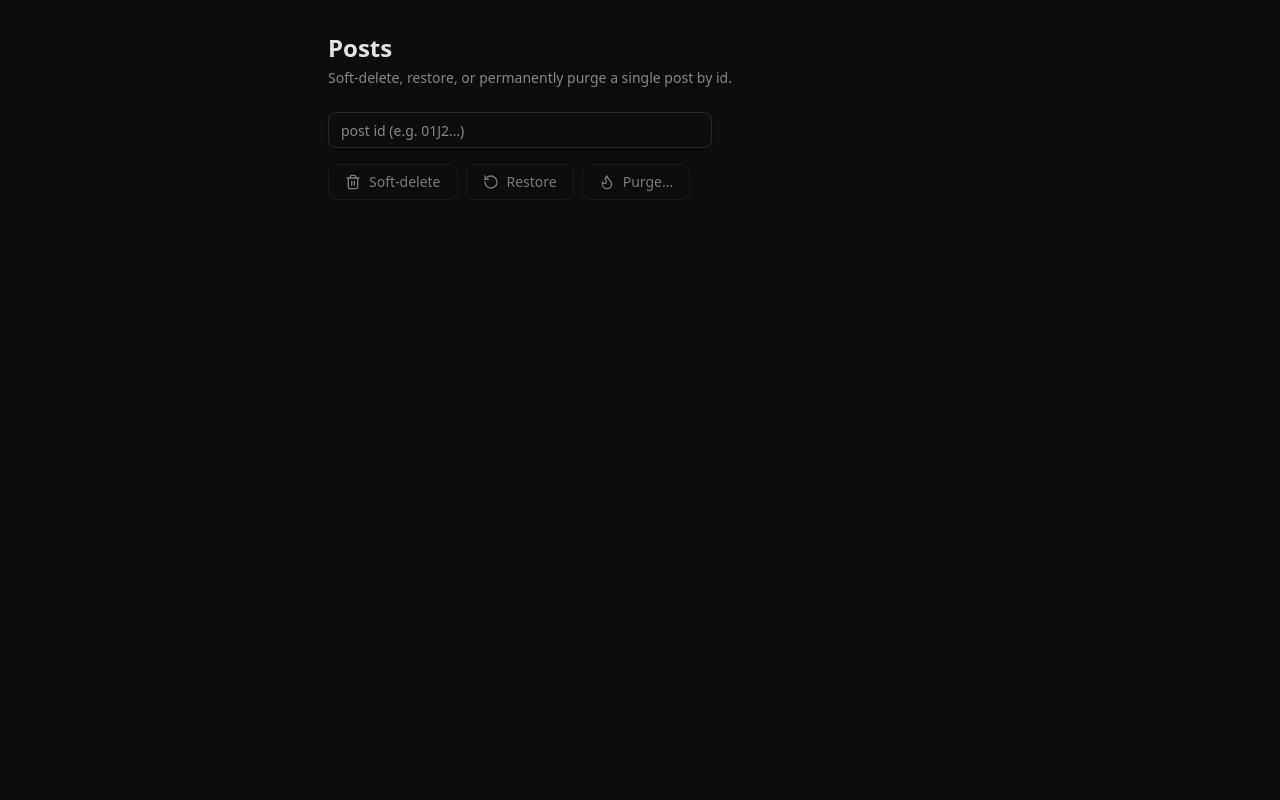
Test: PostAdminView — confirm safety › editing the id clears an open confirm (can't confirm against a changed id)
Type "post-clear" into the field labelled "post id (e.g. 01J2…)" at [520, 130], box [328, 112, 712, 148]
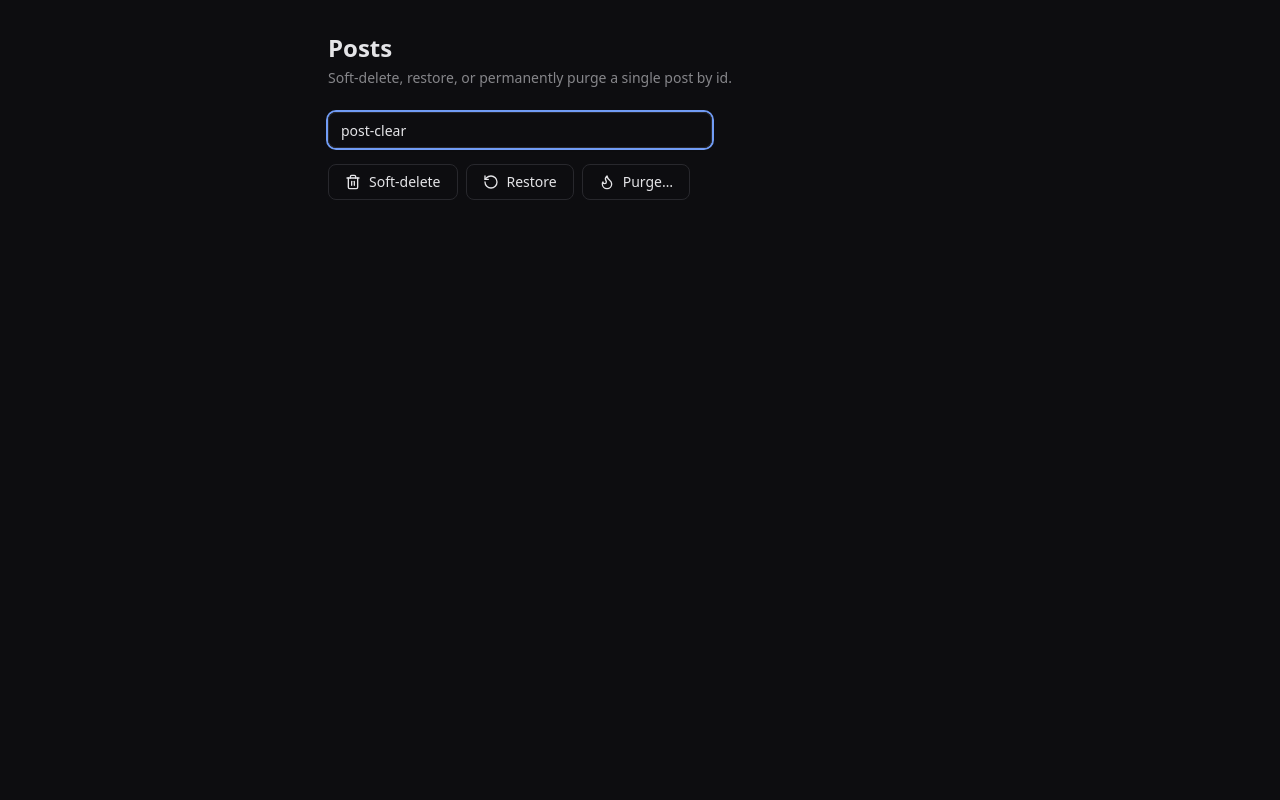
Click the button "Purge…" at [636, 182], box [582, 164, 690, 200]
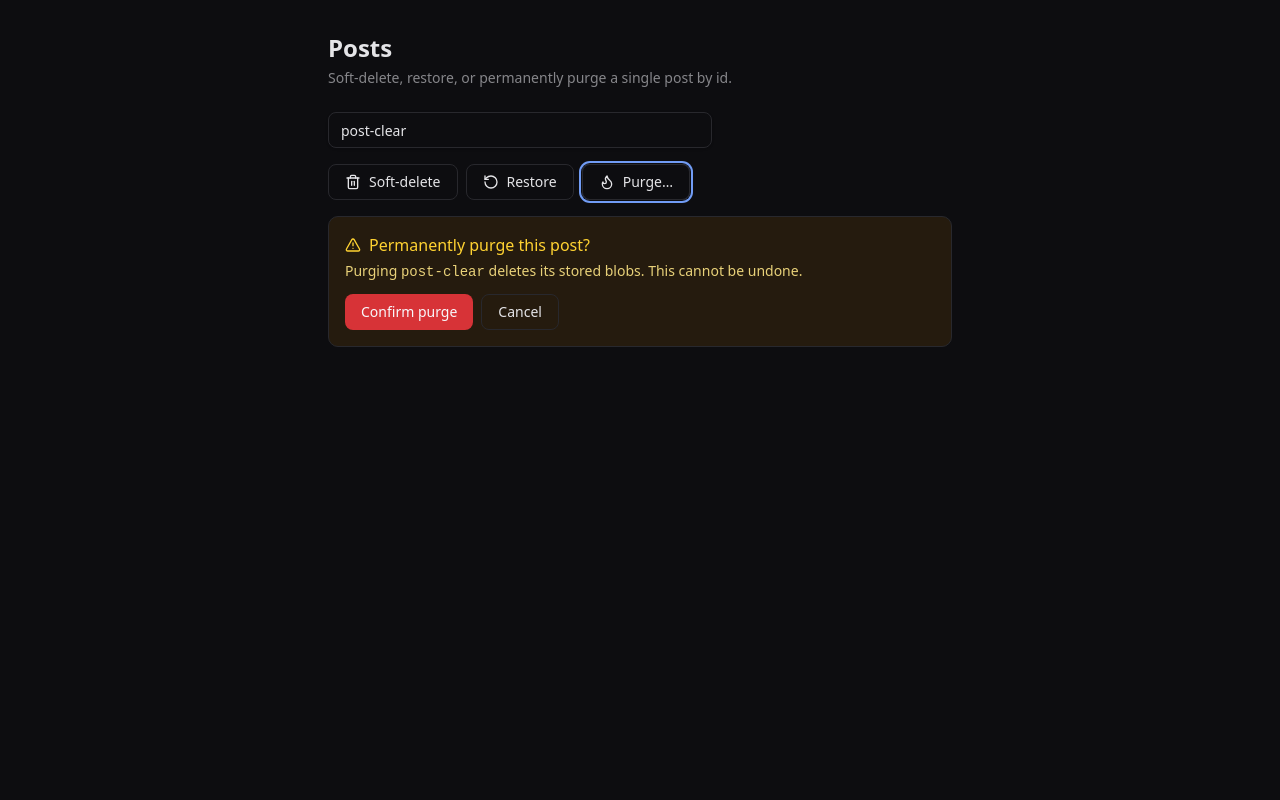
Expected: the dialog is shown, [328, 216, 952, 347]
Type "X" into the field named "post id" at [520, 130], box [328, 112, 712, 148]
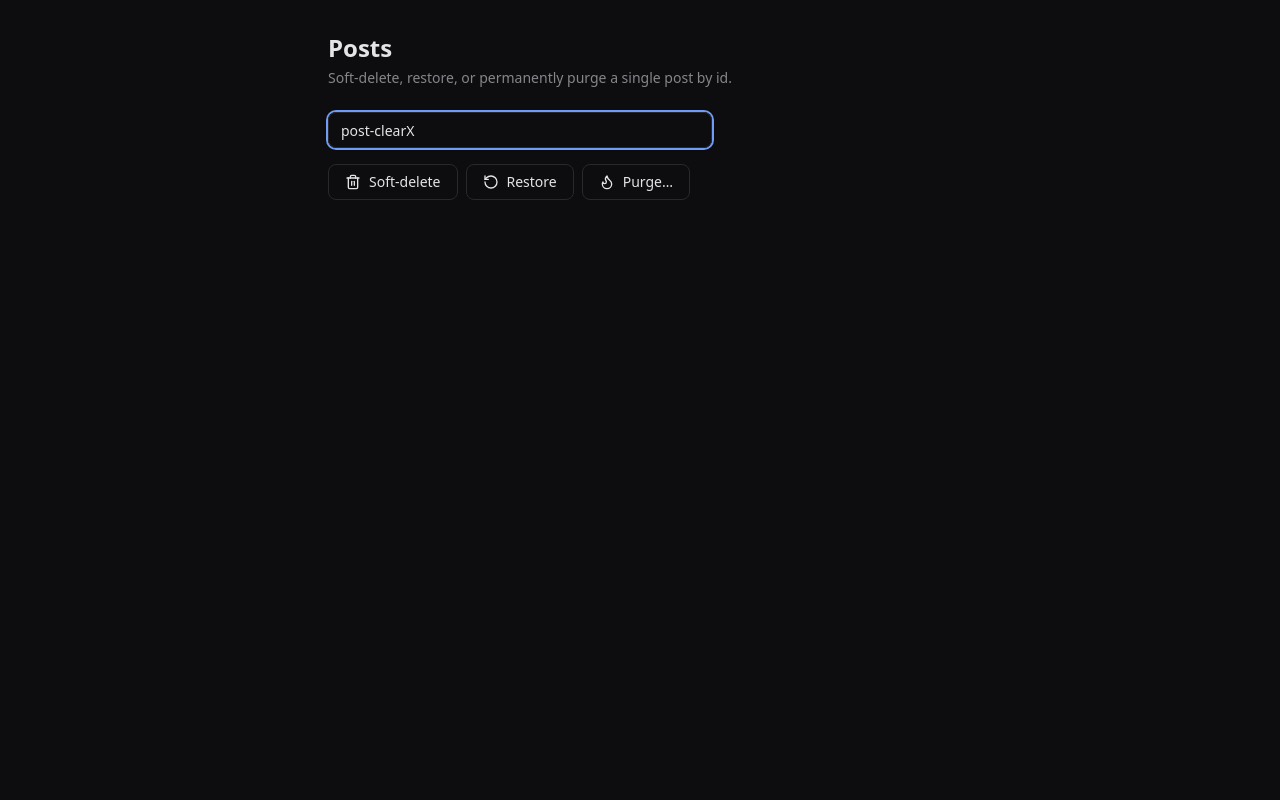
Expected: the dialog is gone
